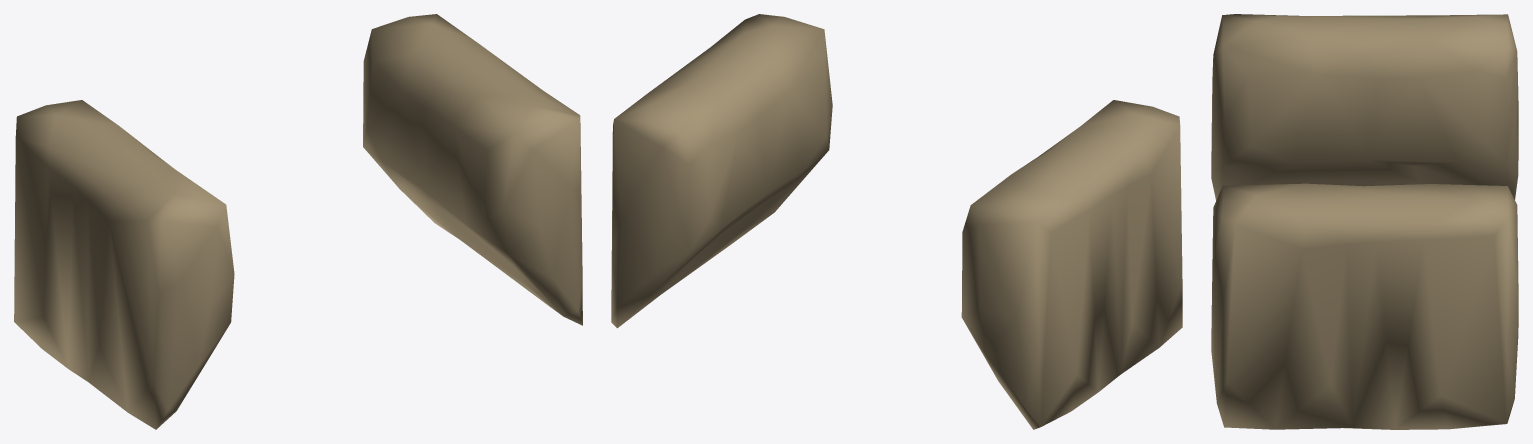
The model's file is Sofa.028.fbx.
The picture shows the model from 3 angles, left to right: view 1: azimuth 30°, elevation 25°; view 2: azimuth 150°, elevation 25°; view 3: azimuth 270°, elevation 25°; orthographic projection.
Parts seen in each view (by area): view 1: Sofa.028; view 2: Sofa.028; view 3: Sofa.028.
Boxes of the visible parts, x1=… form: Sofa.028: x1=14, y1=14, x2=582, y2=429; Sofa.028: x1=611, y1=14, x2=1182, y2=429; Sofa.028: x1=1211, y1=14, x2=1518, y2=429.
Size of the model in its own units: 101 by 47.82 by 61.29.
